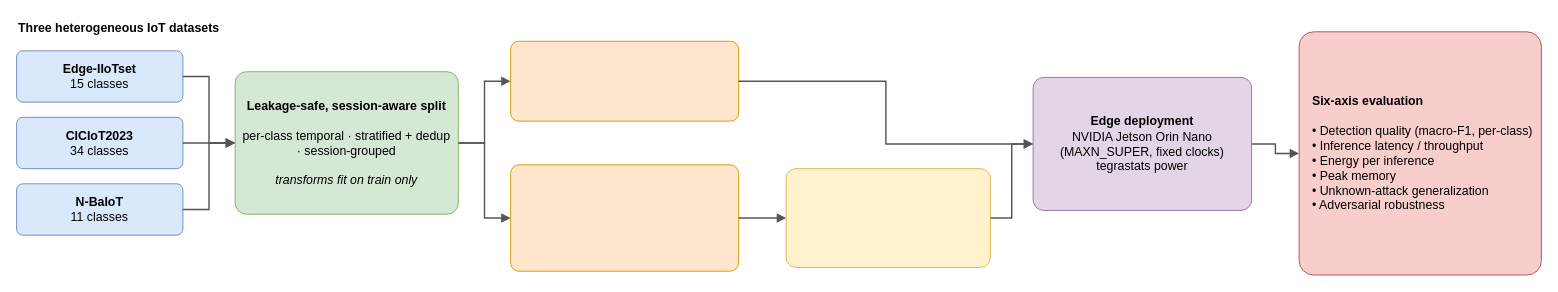
Some shapes in this 1558 by 292 pixel diagram are drawn without their labels. Here are the shapes that lost their labels. From the top down, the centre of each, then its label:
At (x=624, y=80): "Classical baselines Random Forest · XGBoost (numeric features)".
At (x=624, y=217): "LLM-IDS feature→text encoding (Q)LoRA fine-tune GPT-2-medium · Qwen2.5-0.5B/1.5B".
At (x=887, y=217): "Quantization FP16 / INT8 / 4-bit (GGUF · llama.cpp on edge)".
